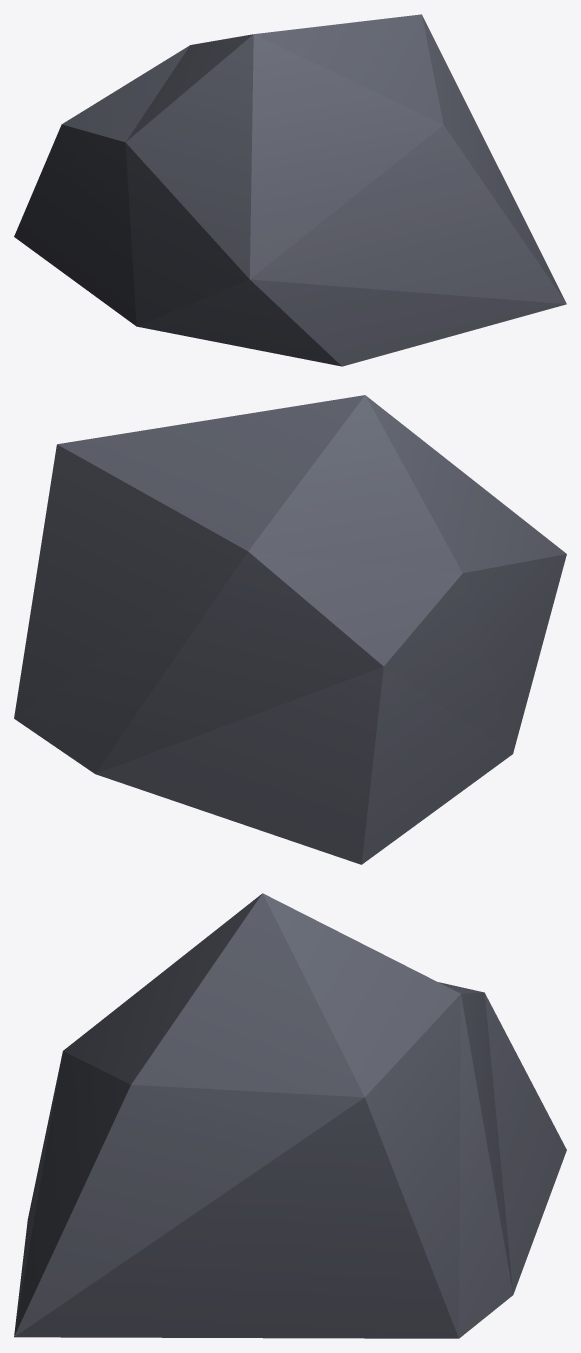
File: Rock_03.fbx
The picture shows the model from 3 angles, top to bottom: view 1: azimuth 30°, elevation 25°; view 2: azimuth 150°, elevation 25°; view 3: azimuth 270°, elevation 25°; orthographic projection. The views are drawn at different scales.
Visible parts, largest first — view 1: Rock_03; view 2: Rock_03; view 3: Rock_03.
Part boxes in pixels (x1=…): Rock_03: x1=14, y1=14, x2=566, y2=366; Rock_03: x1=14, y1=395, x2=566, y2=864; Rock_03: x1=14, y1=893, x2=566, y2=1338.
Bounding box in the file's own units: 0.8867 × 0.6693 × 1.02.
